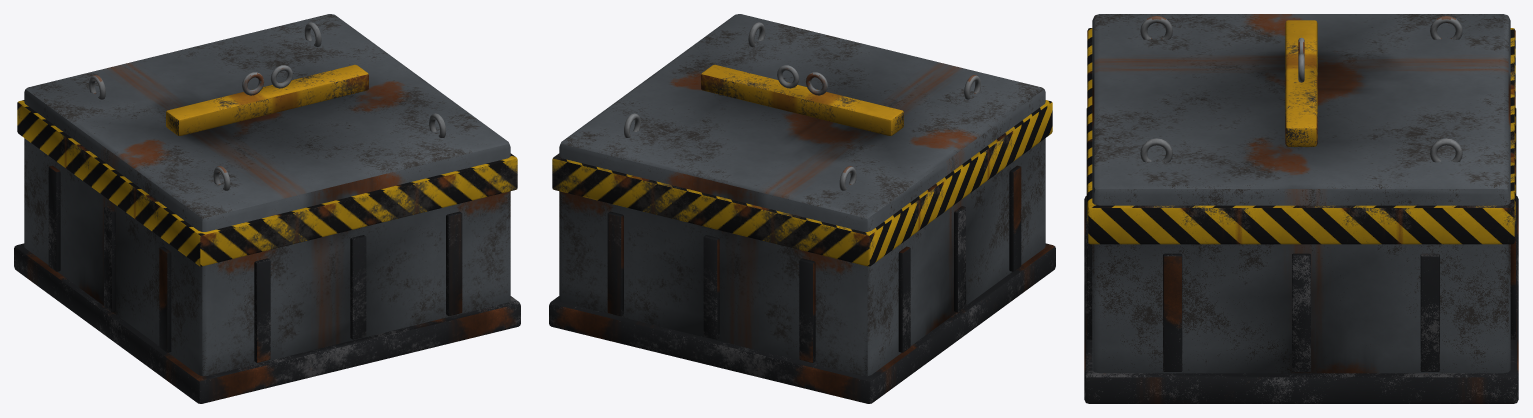
Rendered from crane_load.gltf.
3 renders of one model, left to right at view 1: azimuth 30°, elevation 25°; view 2: azimuth 150°, elevation 25°; view 3: azimuth 270°, elevation 25°, orthographic. The views are drawn at different scales.
Parts seen in each view (by area): view 1: crane_load; view 2: crane_load; view 3: crane_load.
Boxes of the visible parts, <box> form: crane_load: <box>14,14,520,403</box>; crane_load: <box>549,14,1055,403</box>; crane_load: <box>1084,14,1518,403</box>.
Bounding box in the file's own units: 2.7 × 1.86 × 2.7.
Materials: 5 (5 with a texture image).
